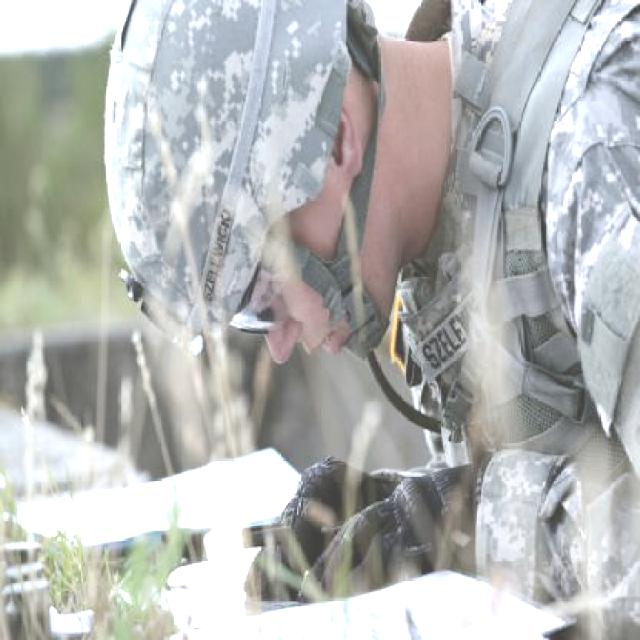Person: (104, 0, 638, 482)
